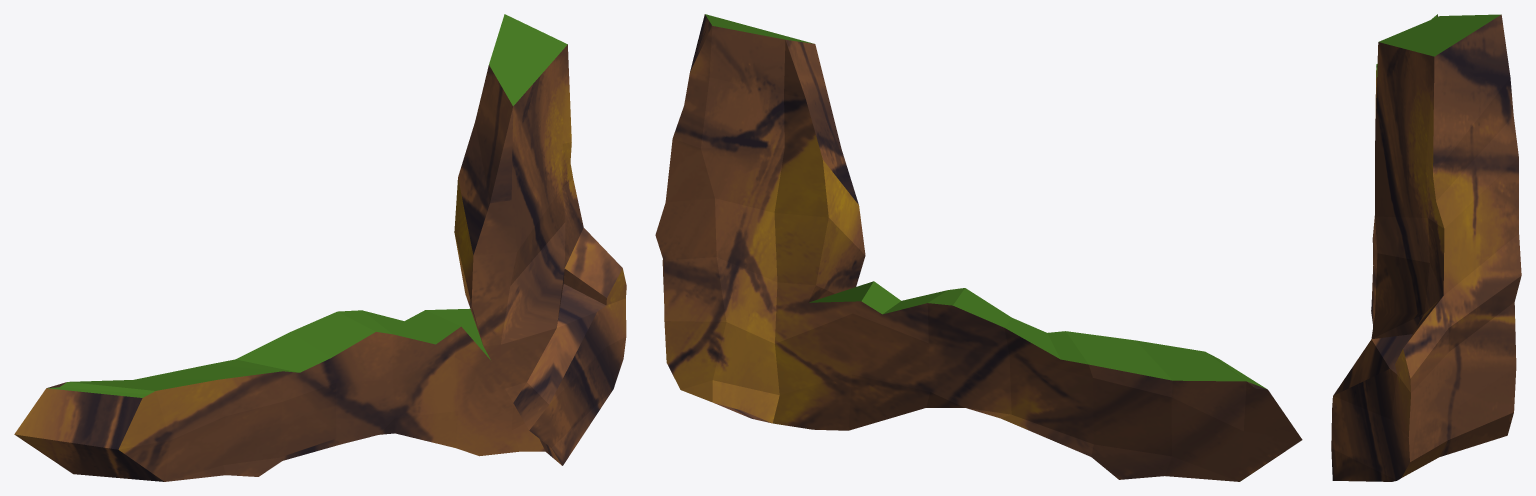
The model's file is sali23.obj.
The picture shows the model from 3 angles, left to right: view 1: azimuth 30°, elevation 25°; view 2: azimuth 150°, elevation 25°; view 3: azimuth 270°, elevation 25°; orthographic projection. The views are drawn at different scales.
Visible parts, largest first — view 1: Plane.007_Plane.006; view 2: Plane.007_Plane.006; view 3: Plane.007_Plane.006.
Boxes of the visible parts, box(x1,y1,x2,y2) form: Plane.007_Plane.006: box(14, 14, 626, 481); Plane.007_Plane.006: box(655, 14, 1302, 481); Plane.007_Plane.006: box(1331, 14, 1521, 481).
Size of the model in its own units: 288 by 182 by 66.32.
Materials: 1 (1 with a texture image).
